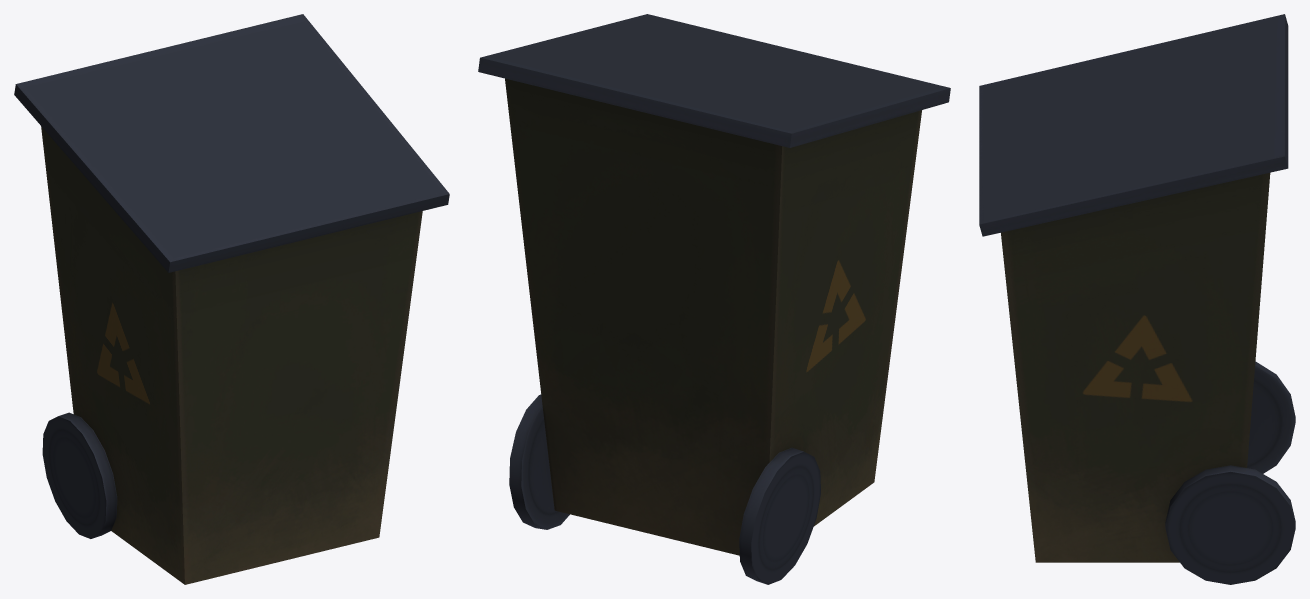
3 renders of one model, left to right at view 1: azimuth 30°, elevation 25°; view 2: azimuth 150°, elevation 25°; view 3: azimuth 270°, elevation 25°, orthographic. The views are drawn at different scales.
Visible parts, largest first — view 1: Bin_lp; view 2: Bin_lp; view 3: Bin_lp.
Boxes of the visible parts, left/top/right/bottom form: Bin_lp: left=14, top=14, right=449, bottom=584; Bin_lp: left=478, top=14, right=950, bottom=584; Bin_lp: left=979, top=14, right=1295, bottom=584.
Bounding box in the file's own units: 24.39 × 35.65 × 22.9.
1 material, 1 textured.
